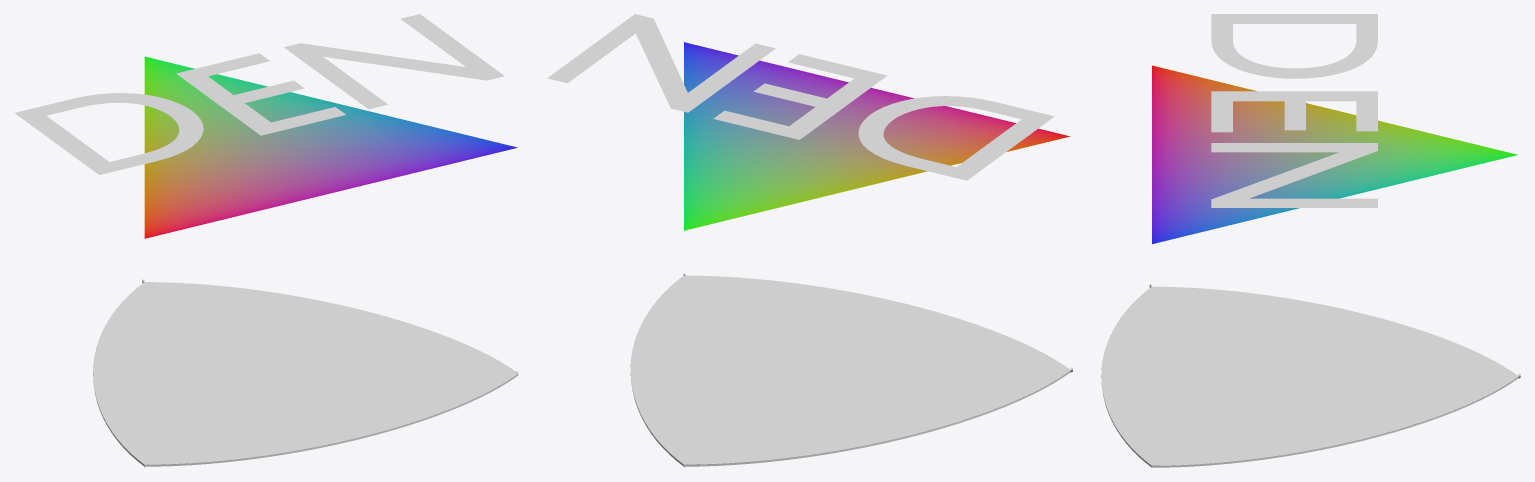
The model's file is Icon_Test.fbx.
The picture shows the model from 3 angles, left to right: view 1: azimuth 30°, elevation 25°; view 2: azimuth 150°, elevation 25°; view 3: azimuth 270°, elevation 25°; orthographic projection. The views are drawn at different scales.
Visible parts, largest first — view 1: NurbsCircle, Triangle, Text; view 2: NurbsCircle, Triangle, Text; view 3: NurbsCircle, Triangle, Text.
Boxes of the visible parts, box(x1,y1,x2,y2) form: NurbsCircle: box(93, 282, 518, 466); Triangle: box(144, 56, 517, 238); Text: box(15, 14, 504, 174); NurbsCircle: box(630, 275, 1070, 466); Triangle: box(684, 42, 1070, 230); Text: box(547, 14, 1054, 180); NurbsCircle: box(1101, 286, 1518, 467); Triangle: box(1152, 65, 1517, 244); Text: box(1211, 14, 1377, 207).
Bounding box in the file's own units: 188 × 121 × 172.
